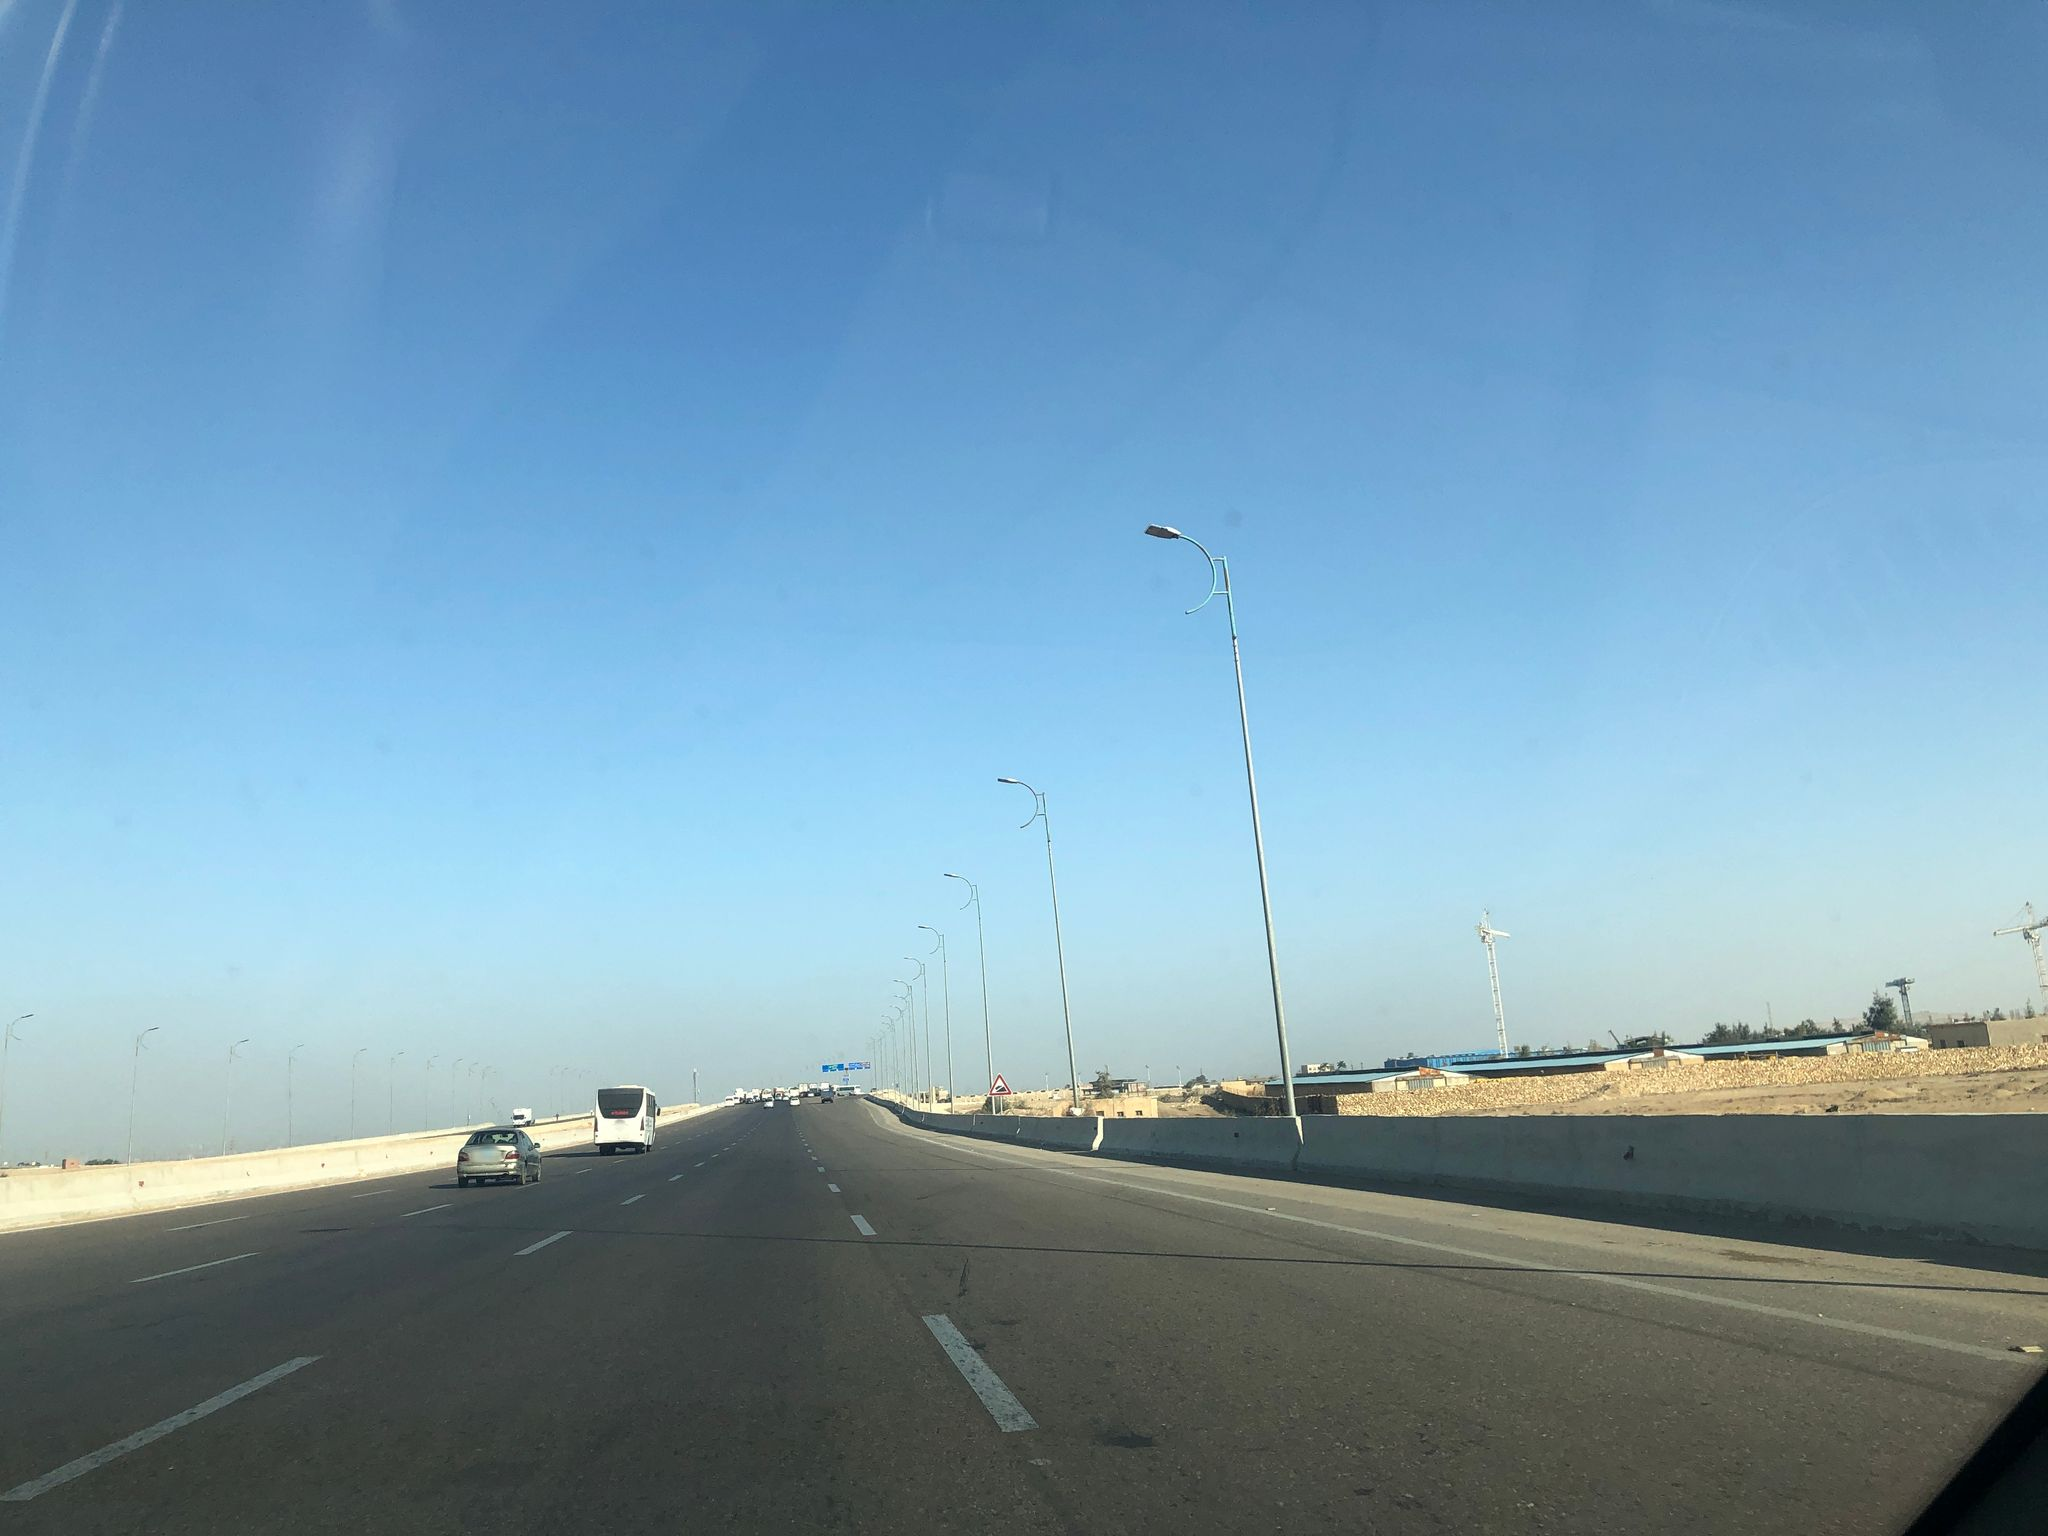bus: (590, 1084, 663, 1154)
car: (456, 1126, 542, 1184)
